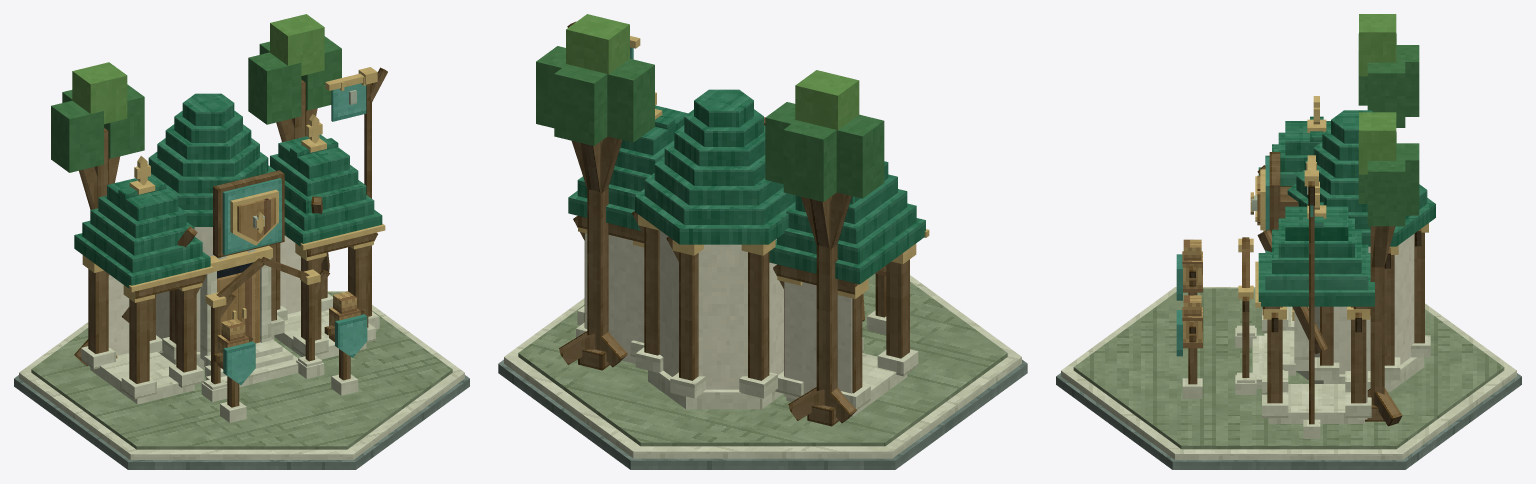
Rendered from elf_guardian_mastery_hex_v1.glb.
The picture shows the model from 3 angles, left to right: view 1: azimuth 30°, elevation 25°; view 2: azimuth 150°, elevation 25°; view 3: azimuth 270°, elevation 25°; orthographic projection. The views are drawn at different scales.
Visible parts, largest first — view 1: Elf_Guardian_Mastery_Hex_V1_Foundation, Elf_Guardian_Mastery_Hex_V1_Roofs, Elf_Guardian_Mastery_Hex_V1_Hall, Elf_Guardian_Mastery_Hex_V1_Focus, Elf_Guardian_Mastery_Hex_V1_Faction, Elf_Guardian_Mastery_Hex_V1_Training, Elf_Guardian_Mastery_Hex_V1_Courtyard; view 2: Elf_Guardian_Mastery_Hex_V1_Foundation, Elf_Guardian_Mastery_Hex_V1_Hall, Elf_Guardian_Mastery_Hex_V1_Focus, Elf_Guardian_Mastery_Hex_V1_Roofs, Elf_Guardian_Mastery_Hex_V1_Training; view 3: Elf_Guardian_Mastery_Hex_V1_Foundation, Elf_Guardian_Mastery_Hex_V1_Hall, Elf_Guardian_Mastery_Hex_V1_Roofs, Elf_Guardian_Mastery_Hex_V1_Focus, Elf_Guardian_Mastery_Hex_V1_Faction, Elf_Guardian_Mastery_Hex_V1_Training, Elf_Guardian_Mastery_Hex_V1_Courtyard.
Boxes of the visible parts, box(x1,y1,x2,y2) form: Elf_Guardian_Mastery_Hex_V1_Foundation: box(14, 291, 469, 469); Elf_Guardian_Mastery_Hex_V1_Roofs: box(74, 93, 385, 292); Elf_Guardian_Mastery_Hex_V1_Hall: box(81, 227, 377, 404); Elf_Guardian_Mastery_Hex_V1_Focus: box(51, 14, 341, 366); Elf_Guardian_Mastery_Hex_V1_Faction: box(213, 67, 387, 329); Elf_Guardian_Mastery_Hex_V1_Training: box(213, 291, 367, 422); Elf_Guardian_Mastery_Hex_V1_Courtyard: box(201, 257, 324, 401); Elf_Guardian_Mastery_Hex_V1_Foundation: box(498, 273, 1027, 469); Elf_Guardian_Mastery_Hex_V1_Hall: box(573, 211, 918, 416); Elf_Guardian_Mastery_Hex_V1_Focus: box(536, 14, 884, 426); Elf_Guardian_Mastery_Hex_V1_Roofs: box(568, 89, 929, 284); Elf_Guardian_Mastery_Hex_V1_Training: box(867, 266, 886, 334); Elf_Guardian_Mastery_Hex_V1_Foundation: box(1056, 287, 1521, 469); Elf_Guardian_Mastery_Hex_V1_Hall: box(1237, 223, 1430, 423); Elf_Guardian_Mastery_Hex_V1_Roofs: box(1255, 96, 1435, 307); Elf_Guardian_Mastery_Hex_V1_Focus: box(1257, 14, 1419, 426); Elf_Guardian_Mastery_Hex_V1_Faction: box(1250, 152, 1320, 438); Elf_Guardian_Mastery_Hex_V1_Training: box(1176, 239, 1202, 398); Elf_Guardian_Mastery_Hex_V1_Courtyard: box(1235, 237, 1295, 394).
Size of the model in its own units: 1.59 by 1.36 by 1.84.
1 material, 1 textured.
